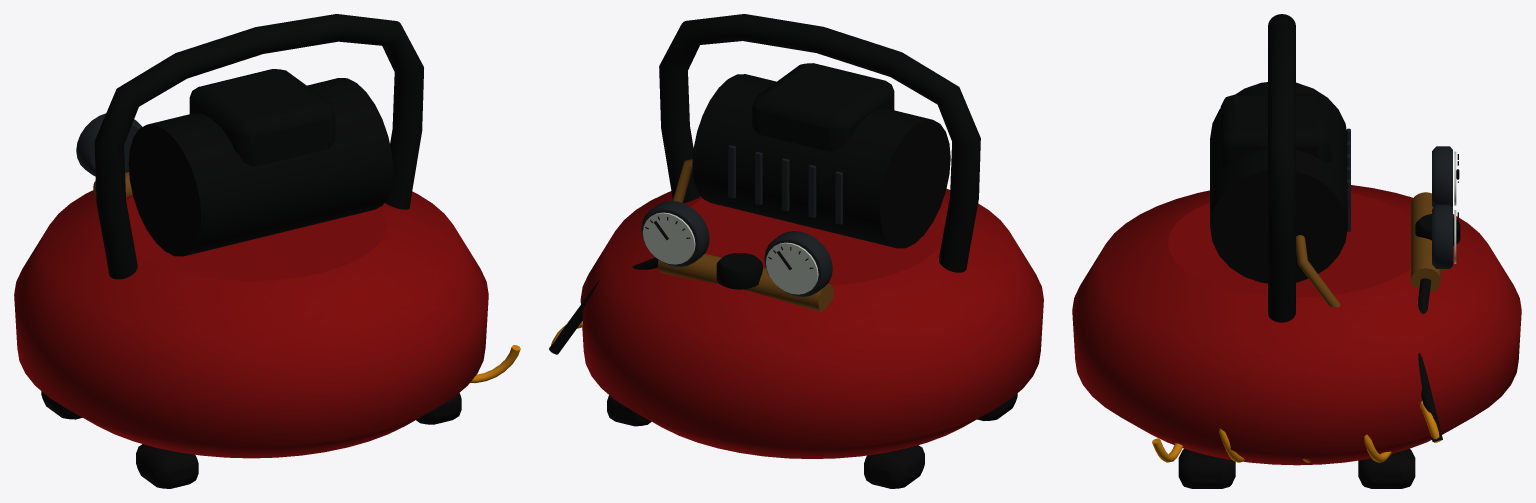
Rendered from AirCompressor.gltf.
3 renders of one model, left to right at view 1: azimuth 30°, elevation 25°; view 2: azimuth 150°, elevation 25°; view 3: azimuth 270°, elevation 25°, orthographic. The views are drawn at different scales.
Parts seen in each view (by area): view 1: AirCompressor__Body; view 2: AirCompressor__Body; view 3: AirCompressor__Body.
Boxes of the visible parts, x1,y1,x2,y2 form: AirCompressor__Body: (14,14,520,488); AirCompressor__Body: (549,14,1043,488); AirCompressor__Body: (1072,14,1521,488).
Size of the model in its own units: 0.4202 by 0.3823 by 0.42.
1 material, 1 textured.
